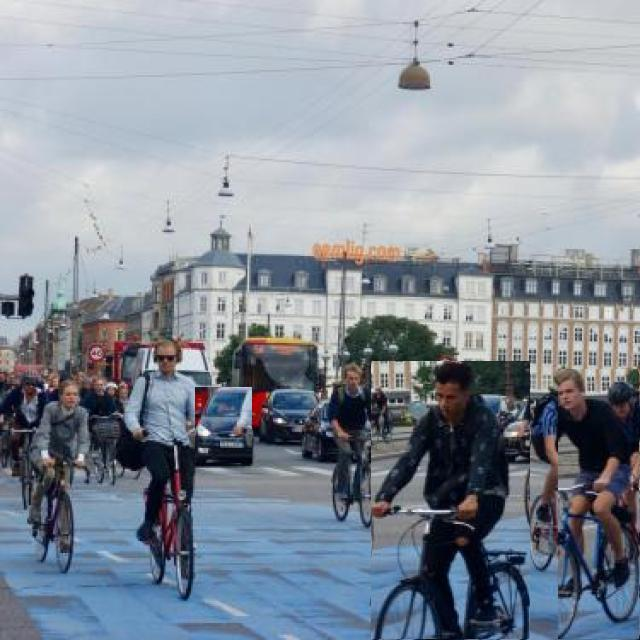bicycle: (371, 362, 530, 639), (124, 340, 214, 598), (559, 369, 639, 639), (328, 364, 382, 527)
bus: (232, 338, 318, 429)
car: (195, 387, 252, 463)
